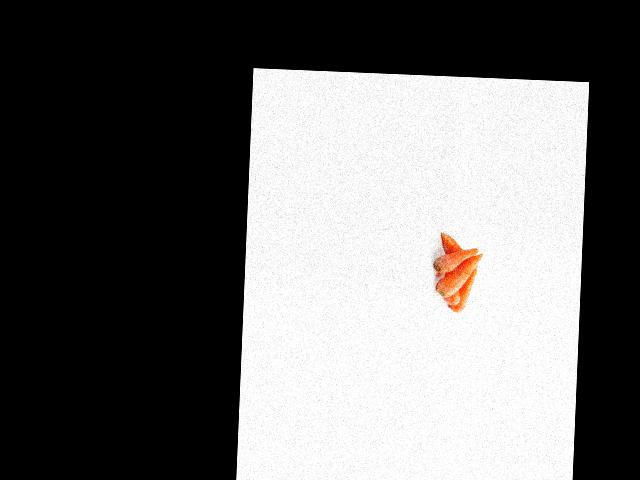carrot: (432, 245, 477, 275)
